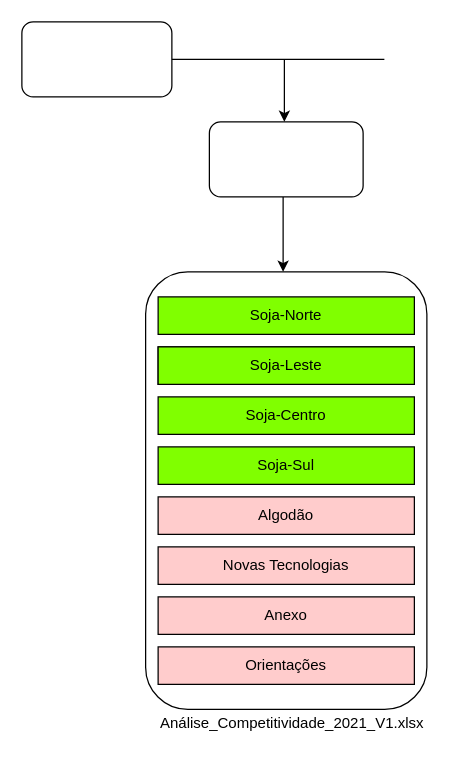
The diagram is 455 pixels wide and 769 high, and some of its shapes have lost their labels. Each missing label, with the centre of its shape:
Análise de Competividade: the point at 285,159
Painel 5 - Protótipo: the point at 96,59
